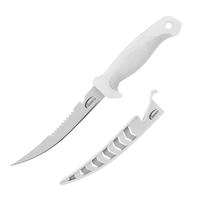knife: (7, 28, 167, 171)
